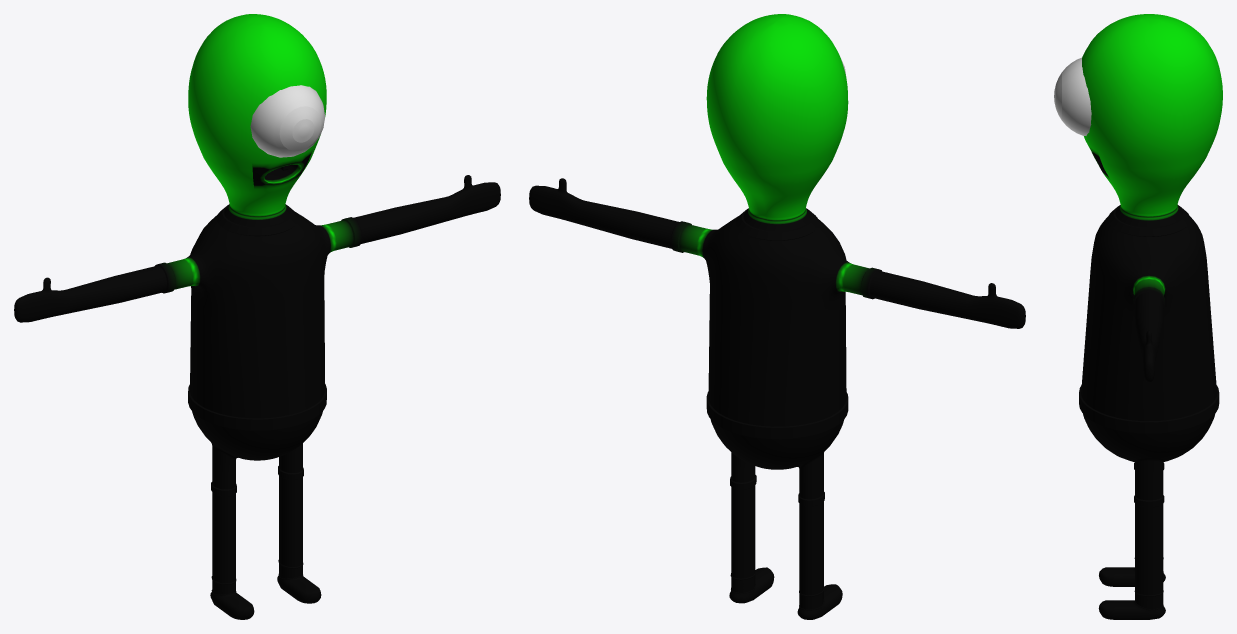
Rendered from AlienBabyNPC.fbx.
3 renders of one model, left to right at view 1: azimuth 30°, elevation 25°; view 2: azimuth 150°, elevation 25°; view 3: azimuth 270°, elevation 25°, orthographic. The views are drawn at different scales.
Visible parts, largest first — view 1: AlienBabyNPC, Eye; view 2: AlienBabyNPC; view 3: AlienBabyNPC, Eye.
Part boxes in pixels (bbox=[...]): AlienBabyNPC: bbox=[14, 14, 500, 619]; Eye: bbox=[250, 85, 324, 157]; AlienBabyNPC: bbox=[529, 14, 1025, 619]; AlienBabyNPC: bbox=[1079, 14, 1222, 619]; Eye: bbox=[1054, 57, 1091, 135].
Size of the model in its own units: 88.26 by 99.76 by 26.36.
